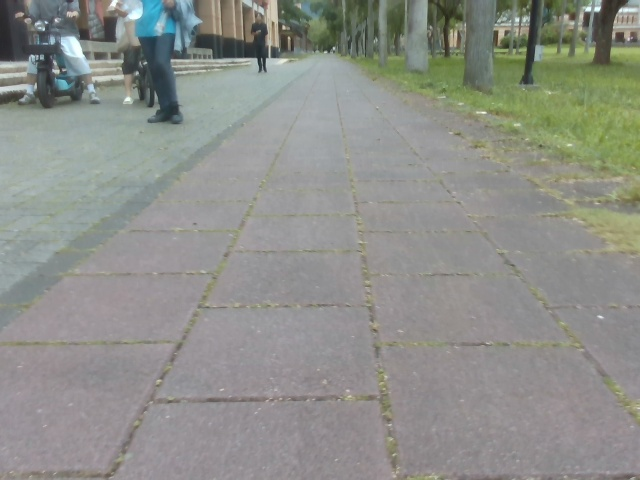grass: (344, 44, 639, 181), (495, 0, 620, 87), (278, 0, 404, 57), (429, 0, 464, 57)
road: (0, 55, 639, 479)
sidewalk: (24, 86, 146, 130)
